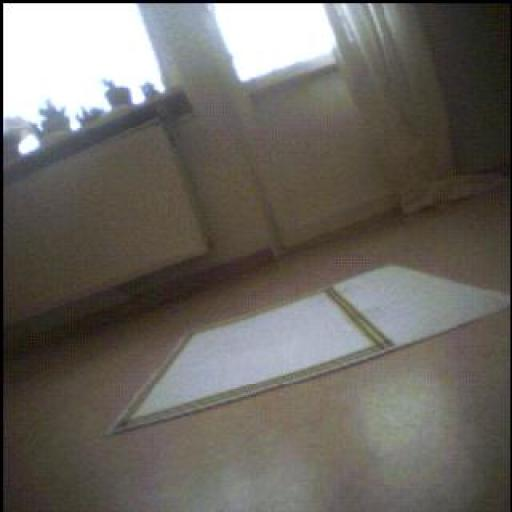Pad: (112, 267, 512, 433), (334, 267, 511, 347)
